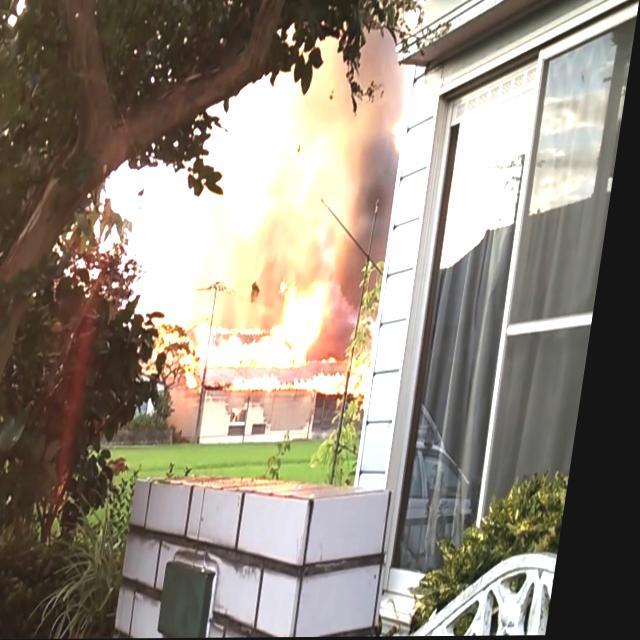Fire: (206, 289, 328, 366), (162, 328, 216, 388), (238, 376, 354, 400), (329, 352, 349, 364)
